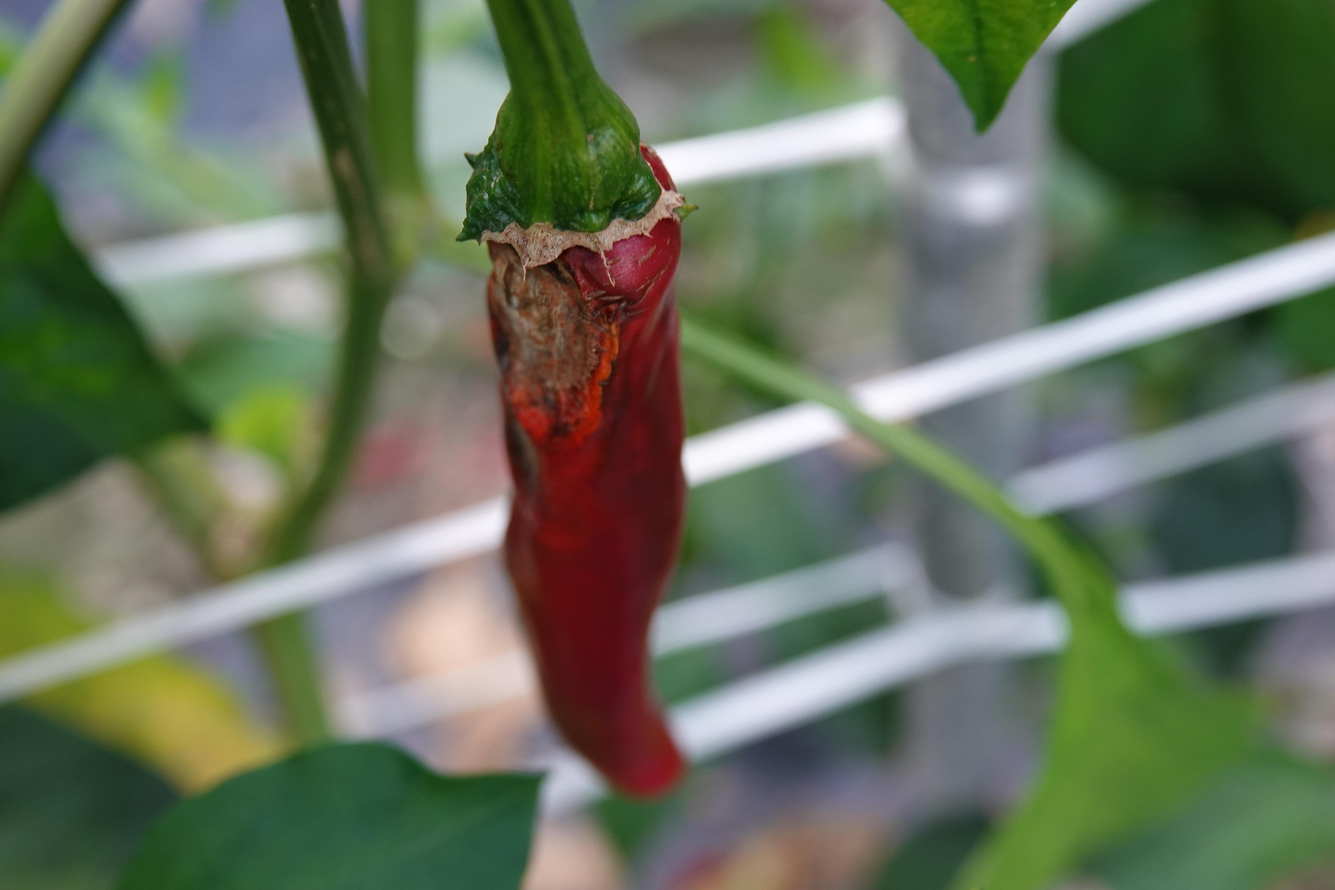Busuk Buah Antraknosa: (453, 113, 699, 802)
